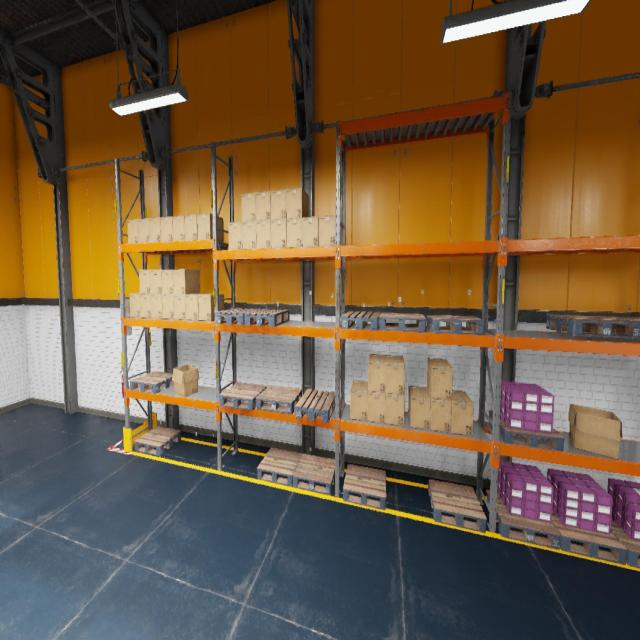box: (568, 404, 622, 458), (427, 388, 451, 432), (427, 358, 452, 400), (408, 386, 431, 430), (451, 390, 473, 435), (172, 364, 199, 396), (197, 213, 223, 242), (350, 380, 368, 421), (198, 293, 224, 321), (386, 355, 404, 395), (368, 354, 386, 393), (286, 188, 309, 218), (173, 269, 200, 294), (186, 293, 210, 320), (368, 391, 386, 424), (386, 394, 404, 426), (302, 216, 319, 247), (319, 215, 335, 247), (286, 218, 302, 248), (271, 189, 286, 219), (271, 219, 286, 248), (242, 192, 256, 222), (256, 220, 271, 248), (256, 191, 270, 220), (242, 221, 256, 249), (228, 222, 242, 250), (185, 214, 198, 241), (172, 215, 185, 241), (160, 216, 173, 242), (174, 294, 186, 320), (129, 292, 141, 318), (162, 294, 174, 319), (162, 269, 174, 294), (149, 217, 161, 242), (150, 270, 162, 294), (138, 218, 149, 243), (140, 294, 151, 318), (139, 270, 150, 294), (151, 295, 162, 318), (128, 219, 138, 244)
pallets: (486, 490, 561, 550), (552, 510, 627, 565), (428, 479, 487, 533), (489, 410, 564, 451), (546, 314, 640, 339), (343, 464, 386, 510), (293, 453, 335, 495), (257, 448, 302, 487), (610, 518, 640, 568), (134, 426, 181, 456), (295, 388, 335, 422), (219, 382, 267, 410), (256, 385, 302, 414), (426, 314, 485, 334), (130, 372, 174, 394), (379, 312, 426, 332), (215, 308, 261, 325), (244, 309, 289, 326), (342, 311, 380, 330), (604, 316, 640, 334)
